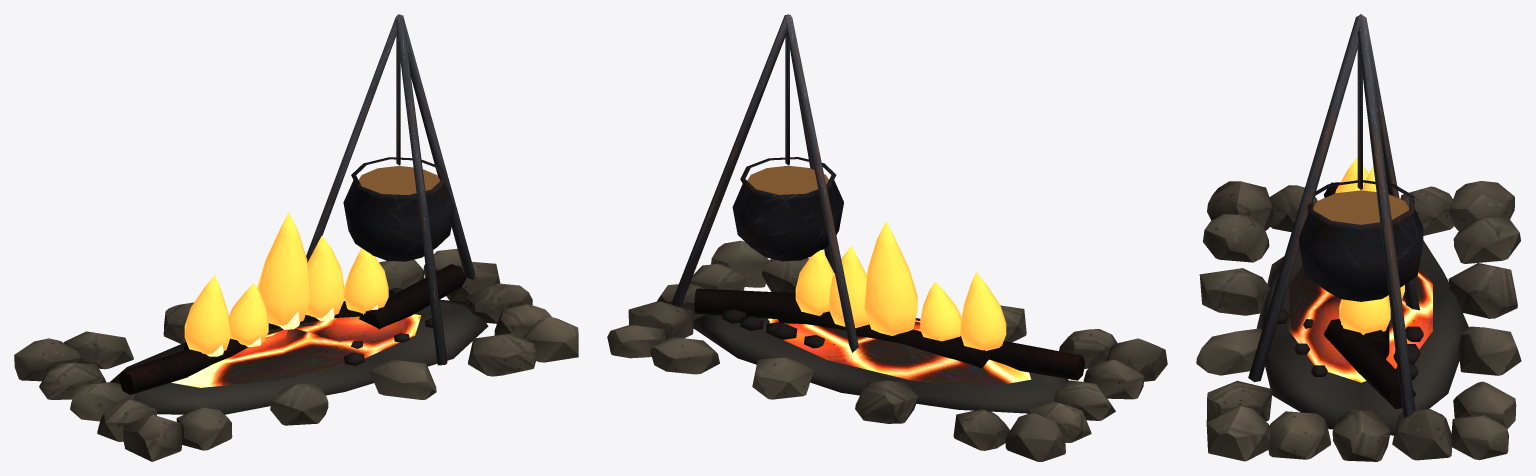
Rendered from interior_hearth.glb.
3 renders of one model, left to right at view 1: azimuth 30°, elevation 25°; view 2: azimuth 150°, elevation 25°; view 3: azimuth 270°, elevation 25°, orthographic. The views are drawn at different scales.
Parts seen in each view (by area): view 1: interior_hearth; view 2: interior_hearth; view 3: interior_hearth.
Part boxes in pixels (x1,y1,x2,y2): interior_hearth: (14, 14, 578, 461); interior_hearth: (607, 14, 1167, 461); interior_hearth: (1196, 14, 1521, 461).
Size of the model in its own units: 2.07 by 1.39 by 1.1.
Materials: 8 (4 with a texture image).
